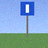sign: (21, 2, 34, 37)
